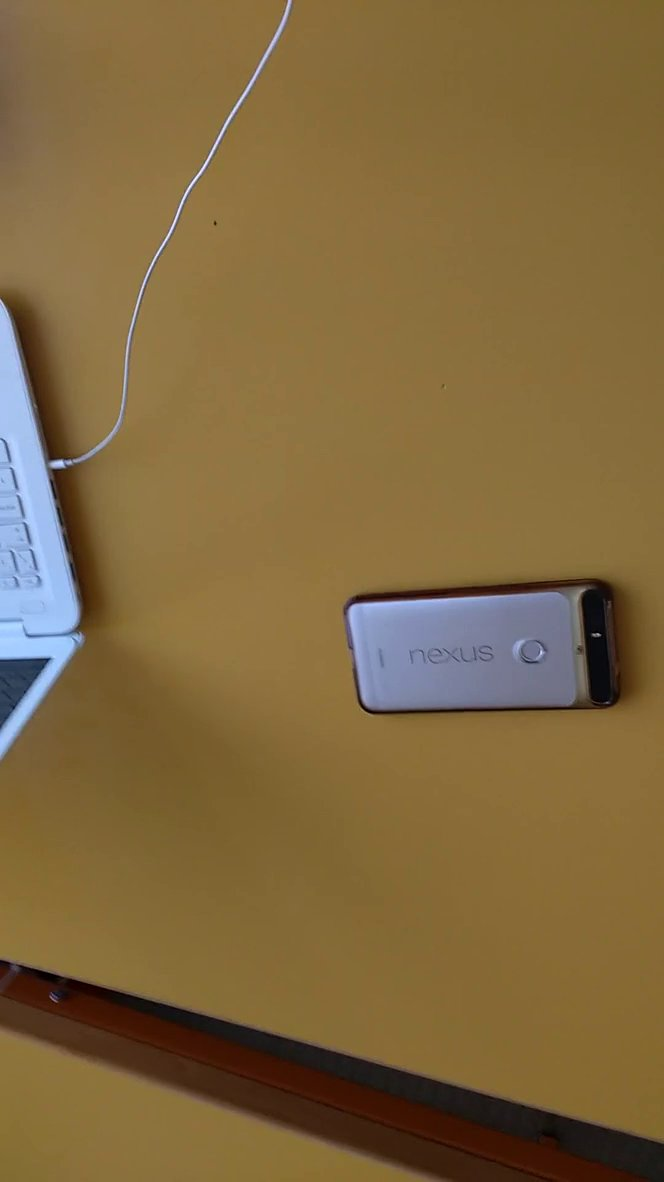phone: (329, 558, 637, 750)
